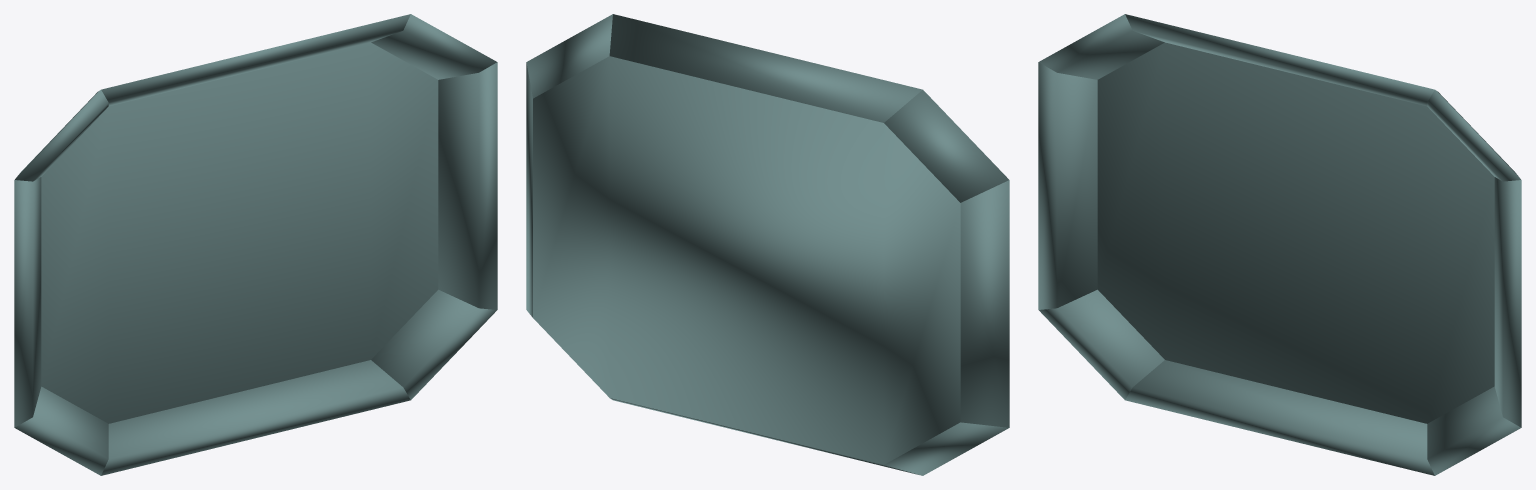
File: CookieSheetCollider.obj
3 views of the same model, side by side, from view 1: azimuth 30°, elevation 25°; view 2: azimuth 150°, elevation 25°; view 3: azimuth 330°, elevation 25° (orthographic).
Visible parts, largest first — view 1: bakingTray1.001_ID14.000, bakingTray1.001_ID14.003, bakingTray1.001_ID14.005, bakingTray1.001_ID14.001, bakingTray1.001_ID14.004, bakingTray1.001_ID14.007, bakingTray1.001_ID14.002, bakingTray1.001_ID14.006, bakingTray1.001_ID14.008; view 2: bakingTray1.001_ID14.000, bakingTray1.001_ID14.007, bakingTray1.001_ID14.001, bakingTray1.001_ID14.008, bakingTray1.001_ID14.006, bakingTray1.001_ID14.002, bakingTray1.001_ID14.005, bakingTray1.001_ID14.003; view 3: bakingTray1.001_ID14.000, bakingTray1.001_ID14.003, bakingTray1.001_ID14.001, bakingTray1.001_ID14.005, bakingTray1.001_ID14.002, bakingTray1.001_ID14.007, bakingTray1.001_ID14.004, bakingTray1.001_ID14.008, bakingTray1.001_ID14.006.
Boxes of the visible parts, x1=… form: bakingTray1.001_ID14.000: x1=41, y1=42, x2=438, y2=423; bakingTray1.001_ID14.003: x1=101, y1=360, x2=410, y2=475; bakingTray1.001_ID14.005: x1=438, y1=62, x2=497, y2=309; bakingTray1.001_ID14.001: x1=14, y1=177, x2=41, y2=427; bakingTray1.001_ID14.004: x1=371, y1=289, x2=496, y2=399; bakingTray1.001_ID14.007: x1=101, y1=14, x2=410, y2=106; bakingTray1.001_ID14.002: x1=15, y1=386, x2=108, y2=475; bakingTray1.001_ID14.006: x1=371, y1=14, x2=496, y2=79; bakingTray1.001_ID14.008: x1=15, y1=90, x2=108, y2=181; bakingTray1.001_ID14.000: x1=533, y1=56, x2=960, y2=464; bakingTray1.001_ID14.007: x1=609, y1=14, x2=922, y2=122; bakingTray1.001_ID14.001: x1=960, y1=180, x2=1009, y2=427; bakingTray1.001_ID14.008: x1=884, y1=90, x2=1008, y2=202; bakingTray1.001_ID14.006: x1=526, y1=14, x2=612, y2=98; bakingTray1.001_ID14.002: x1=884, y1=422, x2=1008, y2=475; bakingTray1.001_ID14.005: x1=526, y1=62, x2=532, y2=317; bakingTray1.001_ID14.003: x1=610, y1=398, x2=918, y2=474; bakingTray1.001_ID14.000: x1=1097, y1=42, x2=1494, y2=423; bakingTray1.001_ID14.003: x1=1125, y1=360, x2=1434, y2=475; bakingTray1.001_ID14.001: x1=1038, y1=62, x2=1097, y2=309; bakingTray1.001_ID14.005: x1=1494, y1=177, x2=1521, y2=427; bakingTray1.001_ID14.002: x1=1039, y1=289, x2=1164, y2=399; bakingTray1.001_ID14.007: x1=1125, y1=14, x2=1434, y2=106; bakingTray1.001_ID14.004: x1=1427, y1=386, x2=1520, y2=475; bakingTray1.001_ID14.008: x1=1039, y1=14, x2=1164, y2=79; bakingTray1.001_ID14.006: x1=1427, y1=90, x2=1520, y2=181.
Bounding box in the file's own units: 0.4965 × 0.3795 × 0.0378.
